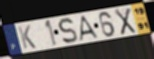1: (44, 19, 59, 47)
6: (99, 11, 116, 39)
A: (79, 15, 100, 43)
K: (17, 24, 38, 51)
S: (57, 17, 79, 45)
X: (113, 7, 137, 36)
